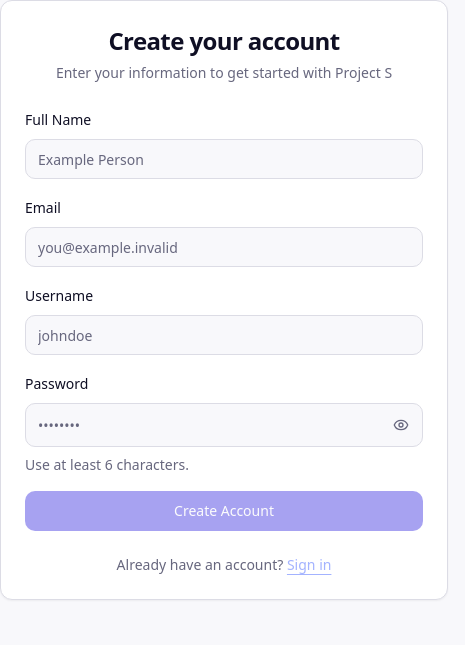
signup accessibility and recovery › links validation errors to the password input and preserves the existing six-character boundary
Type "short" into the password field labelled "Password" at (224, 425), box [25,403,423,447]
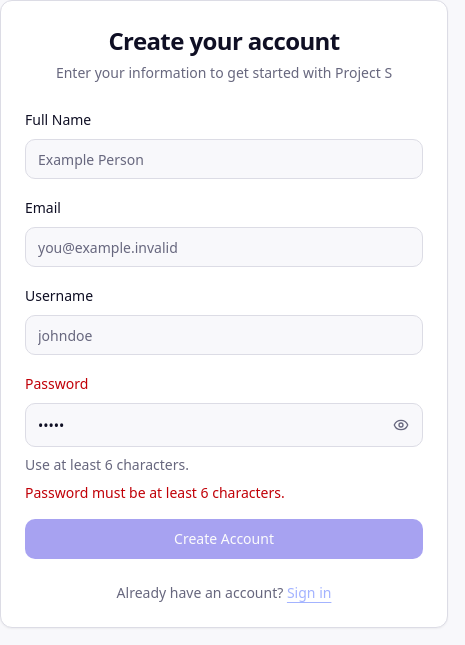
Expected: the button "Create Account" is disabled, [25,519,423,559]
Result: the password field labelled "Password" is marked as invalid
Type "sixsix" into the password field labelled "Password" at (224, 425), box [25,403,423,447]
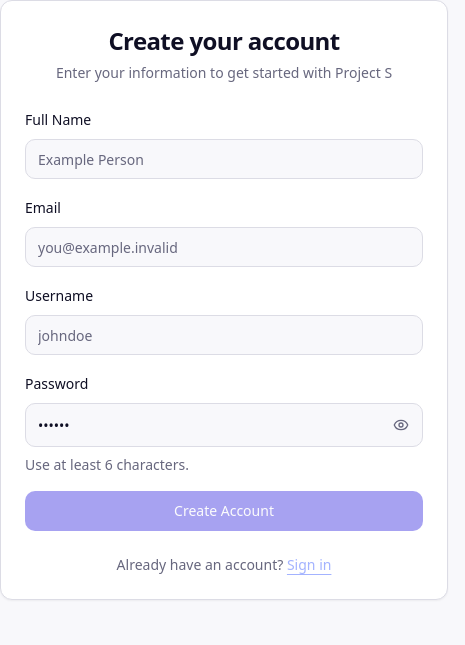
Result: the text "Password must be at least 6 characters." is gone
